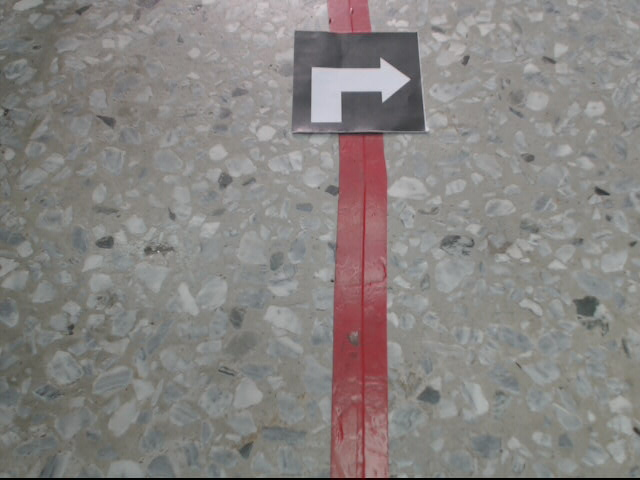right: (291, 28, 430, 137)
